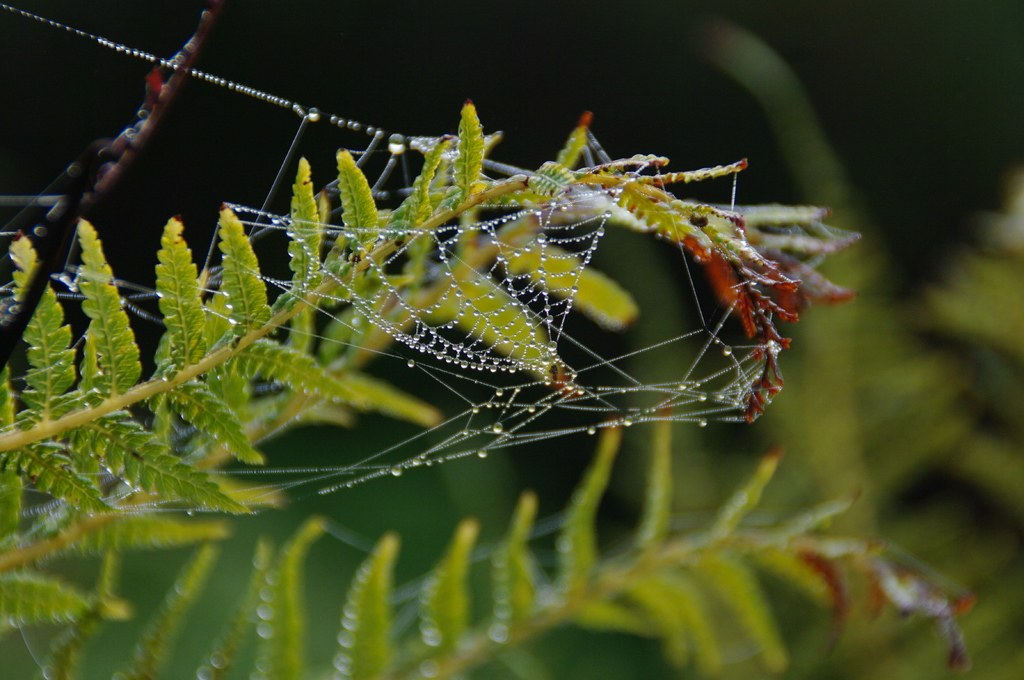insect: (0, 22, 962, 619), (531, 348, 588, 407)
